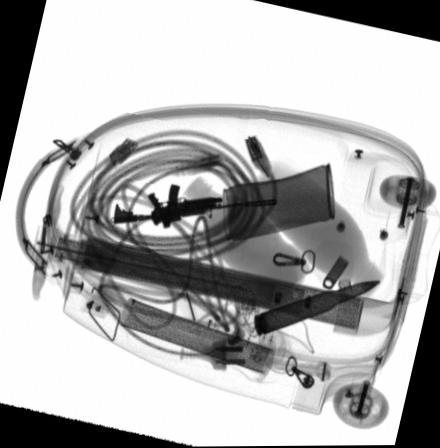Bullet: (254, 282, 381, 337)
Gun: (112, 184, 277, 230)
